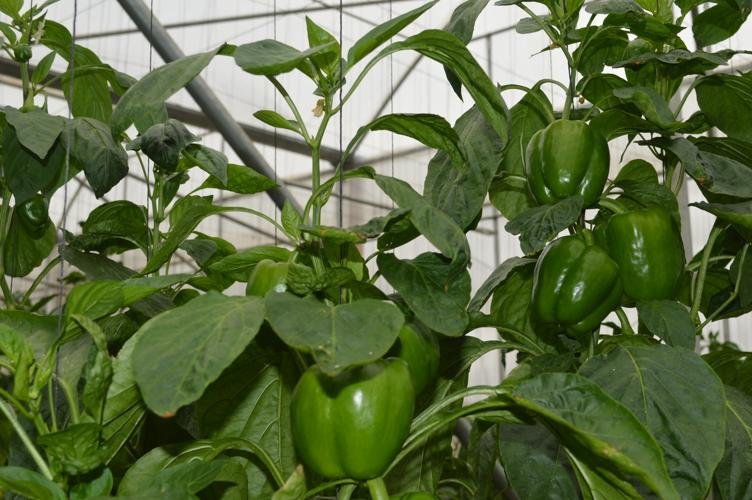BellPepper: (279, 348, 413, 478), (519, 217, 617, 339), (511, 105, 612, 212), (598, 194, 691, 303)
